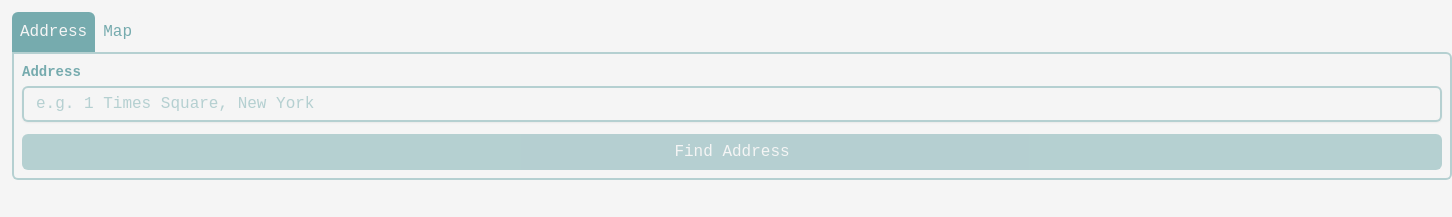
LocationPicker address tab › surfaces a network failure distinctly from a missing address
Type "Times Square" into the field labelled "Address".
click(732, 104); type("Times Square")  # box [22,86,1442,122]
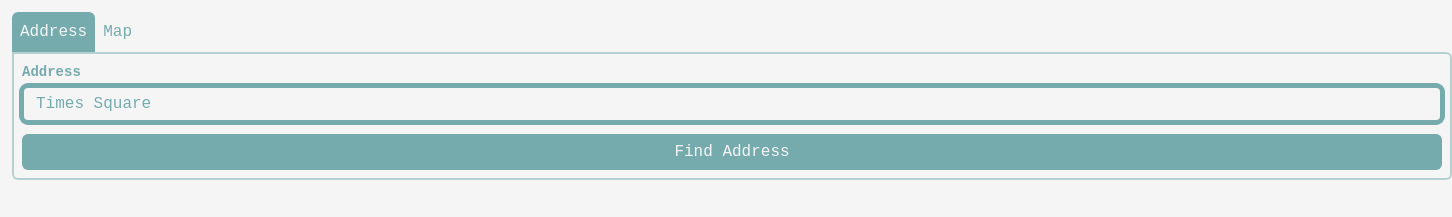
Click the button "Find Address".
click(732, 152)  # box [22,134,1442,170]
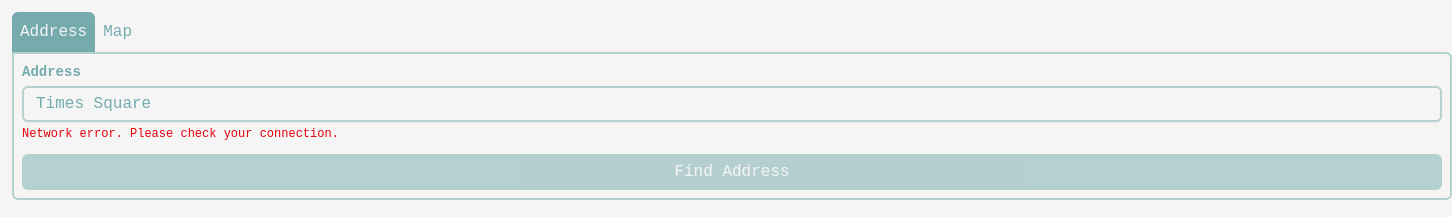
Expected: the message shows "Network error", [22,127,339,141]
